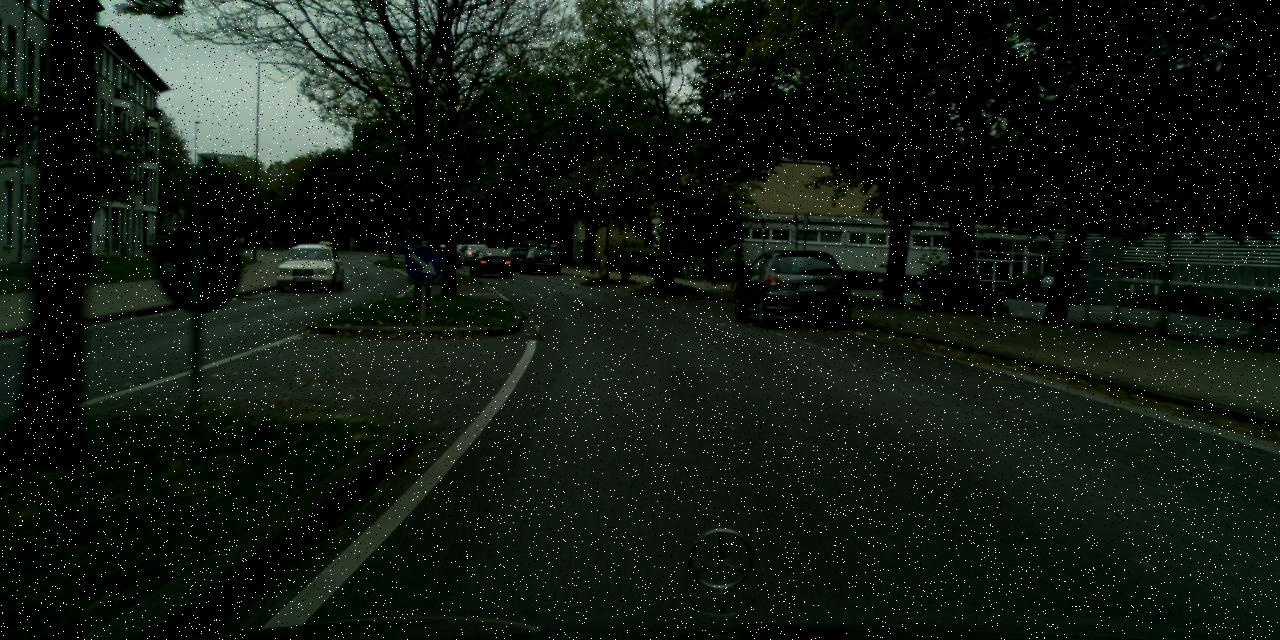ped: (726, 236, 747, 287), (232, 234, 239, 253), (238, 234, 245, 252)
